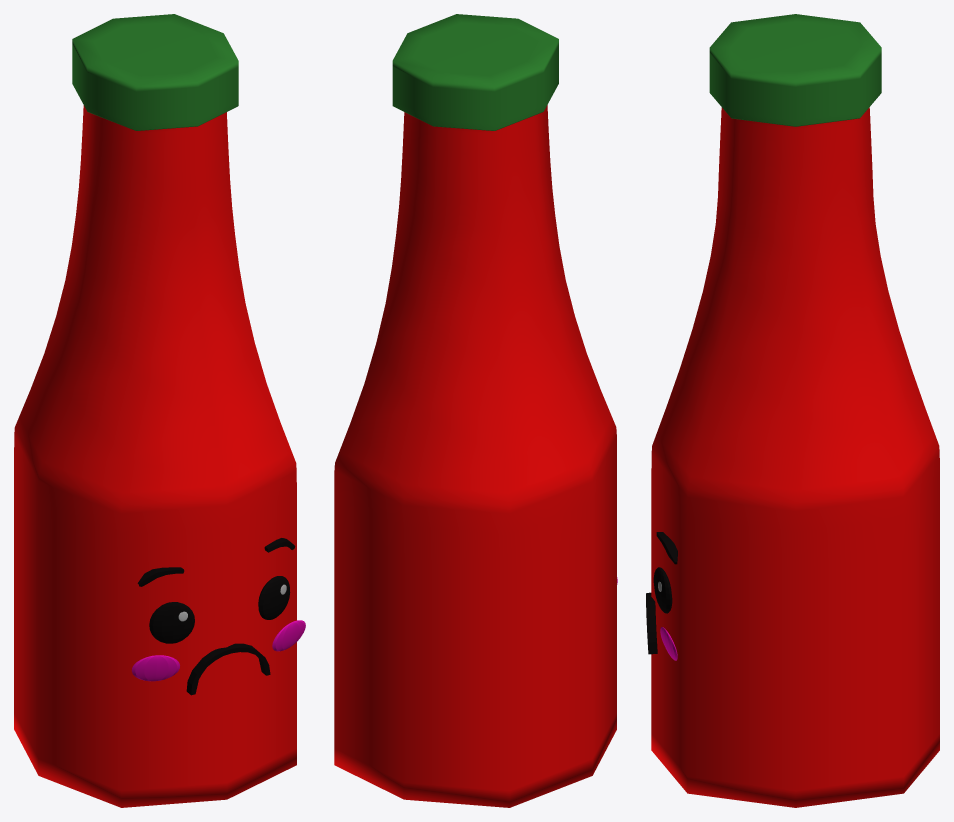
The model's file is ketcap_anne.fbx.
3 views of the same model, side by side, from view 1: azimuth 30°, elevation 25°; view 2: azimuth 150°, elevation 25°; view 3: azimuth 270°, elevation 25° (orthographic).
Parts seen in each view (by area): view 1: pCube1, polySurface1, domates_anne:pCube4, polySurface2, polySurface5, polySurface6; view 2: pCube1; view 3: pCube1, polySurface2, domates_anne:pCube4.
Boxes of the visible parts, x1,y1,x2,y2 form: pCube1: (14,14,296,807); polySurface1: (149,602,194,643); domates_anne:pCube4: (186,643,270,695); polySurface2: (258,576,290,619); polySurface5: (131,655,179,681); polySurface6: (272,620,305,651); pCube1: (334,14,616,807); pCube1: (651,14,939,807); polySurface2: (653,567,672,613); domates_anne:pCube4: (646,592,657,654).
Size of the model in its own units: 2.79 by 7.96 by 3.01.
